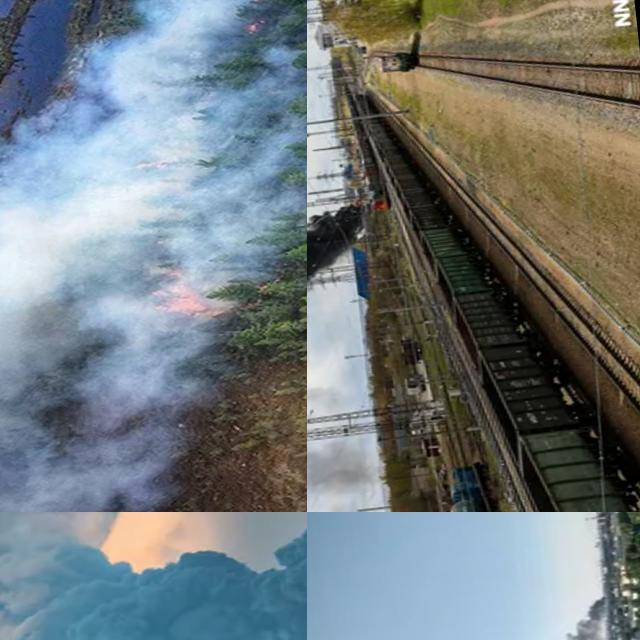smoke: (0, 0, 307, 512), (0, 512, 307, 640), (307, 200, 384, 489), (528, 593, 617, 640)
